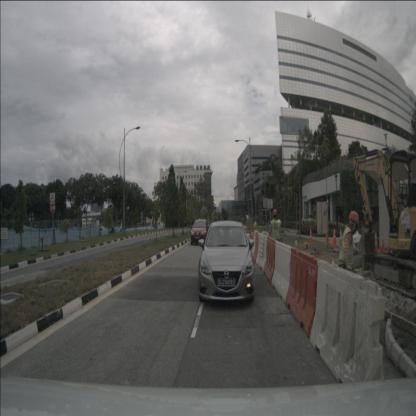barrier: (309, 259, 385, 399), (285, 247, 320, 338), (270, 240, 293, 304), (263, 236, 277, 284), (255, 232, 269, 272), (250, 229, 258, 259), (253, 232, 260, 264)
cone: (380, 233, 386, 256), (373, 231, 379, 254), (308, 227, 314, 245), (324, 227, 330, 245), (331, 228, 337, 246), (338, 228, 343, 249)
